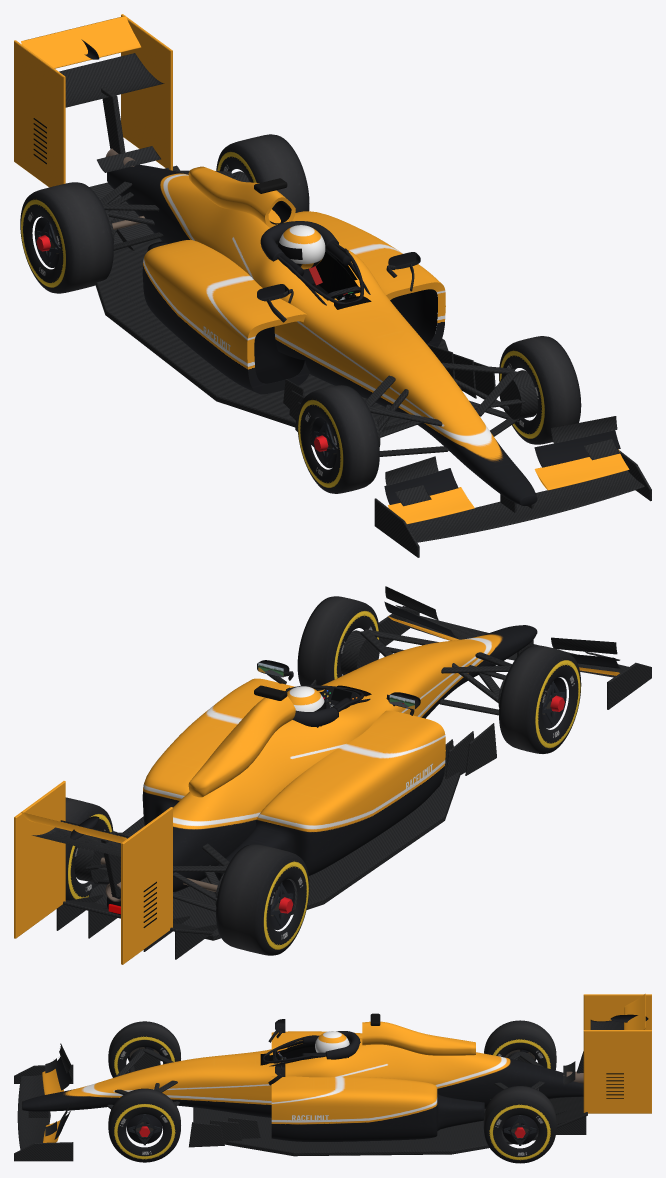
File: car_2014.glb
The picture shows the model from 3 angles, top to bottom: view 1: azimuth 30°, elevation 25°; view 2: azimuth 150°, elevation 25°; view 3: azimuth 270°, elevation 25°; orthographic projection. The views are drawn at different scales.
Parts seen in each view (by area): view 1: RL_Car, RL_HideInCockpit_0, RL_WheelSpin_RR, RL_WheelSpin_FR, RL_WheelSpin_FL, RL_WheelSpin_RL, RL_HideInCockpit_4, RL_HideInCockpit_8; view 2: RL_Car, RL_HideInCockpit_0, RL_WheelSpin_RR, RL_WheelSpin_FR, RL_WheelSpin_FL, RL_WheelSpin_RL, RL_HideInCockpit_4; view 3: RL_Car, RL_HideInCockpit_0, RL_WheelSpin_RL, RL_WheelSpin_FL, RL_WheelSpin_FR, RL_WheelSpin_RR, RL_HideInCockpit_4, RL_HideInCockpit_8, RL_HideInCockpit_3.
Boxes of the visible parts, x1,y1,x2,y2 form: RL_Car: (14, 14, 651, 557); RL_HideInCockpit_0: (107, 164, 537, 505); RL_WheelSpin_RR: (20, 182, 114, 293); RL_WheelSpin_FR: (297, 385, 380, 493); RL_WheelSpin_FL: (499, 336, 581, 444); RL_WheelSpin_RL: (216, 134, 309, 212); RL_HideInCockpit_4: (279, 225, 325, 269); RL_HideInCockpit_8: (316, 252, 358, 293); RL_Car: (14, 586, 651, 964); RL_HideInCockpit_0: (107, 625, 537, 914); RL_WheelSpin_RR: (215, 844, 309, 955); RL_WheelSpin_FR: (498, 645, 581, 753); RL_WheelSpin_FL: (297, 596, 379, 685); RL_WheelSpin_RL: (65, 797, 113, 900); RL_HideInCockpit_4: (287, 686, 324, 711); RL_Car: (14, 993, 651, 1161); RL_HideInCockpit_0: (22, 1038, 583, 1117); RL_WheelSpin_RL: (483, 1085, 556, 1163); RL_WheelSpin_FL: (108, 1088, 180, 1162); RL_WheelSpin_FR: (108, 1021, 180, 1077); RL_WheelSpin_RR: (484, 1020, 556, 1070); RL_HideInCockpit_4: (315, 1031, 349, 1052); RL_HideInCockpit_8: (269, 1042, 316, 1063); RL_HideInCockpit_3: (263, 1035, 326, 1063).
Bounding box in the file's own units: 1.79 × 1.14 × 5.78.
65 materials, 14 textured.
